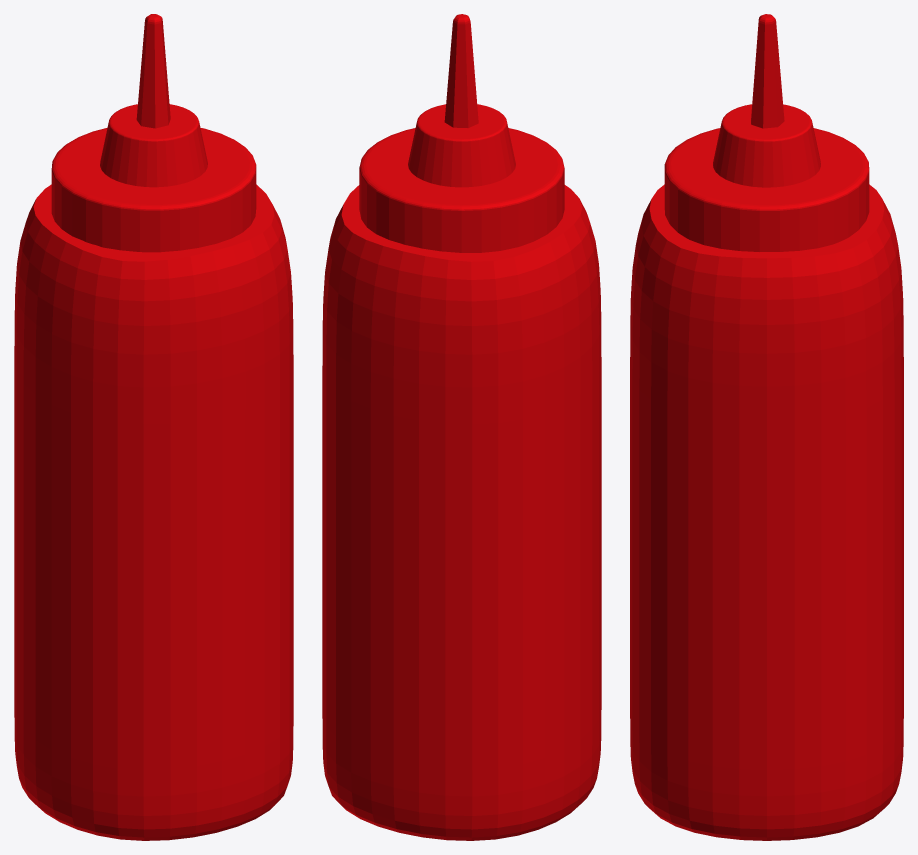
Rendered from Ketchupbottle.fbx.
3 renders of one model, left to right at view 1: azimuth 30°, elevation 25°; view 2: azimuth 150°, elevation 25°; view 3: azimuth 270°, elevation 25°, orthographic.
Visible parts, largest first — view 1: Cube; view 2: Cube; view 3: Cube.
Boxes of the visible parts, box(x1,y1,x2,y2) form: Cube: box(14, 14, 293, 840); Cube: box(322, 14, 601, 840); Cube: box(630, 14, 903, 840).
Bounding box in the file's own units: 183 × 574 × 183.
